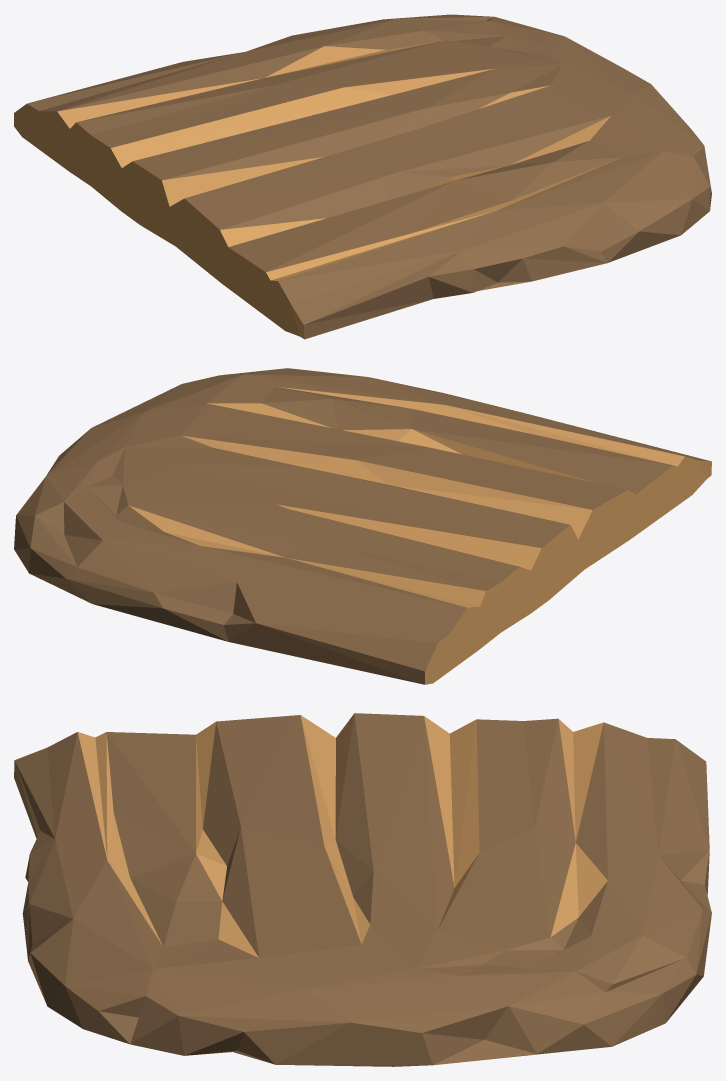
File: bread 1.glb
The picture shows the model from 3 angles, top to bottom: view 1: azimuth 30°, elevation 25°; view 2: azimuth 150°, elevation 25°; view 3: azimuth 270°, elevation 25°; orthographic projection. The views are drawn at different scales.
Parts seen in each view (by area): view 1: Cube; view 2: Cube; view 3: Cube.
Boxes of the visible parts, x1,y1,x2,y2 form: Cube: [14, 14, 711, 339]; Cube: [14, 368, 711, 684]; Cube: [14, 713, 711, 1066].
Bounding box in the file's own units: 0.2781 × 0.033 × 0.286.
